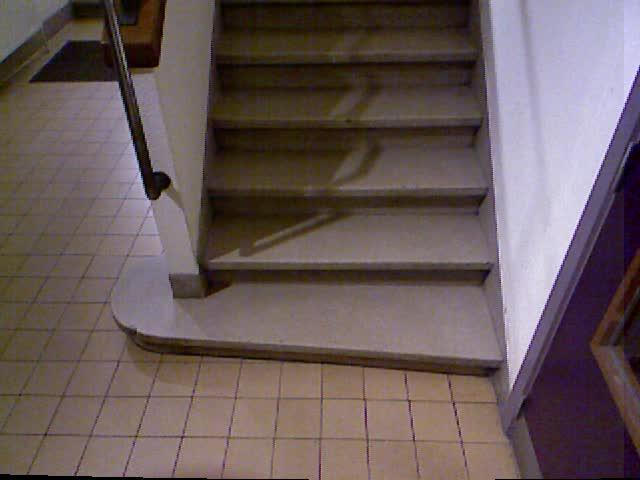Escaleras: (171, 14, 519, 380)
